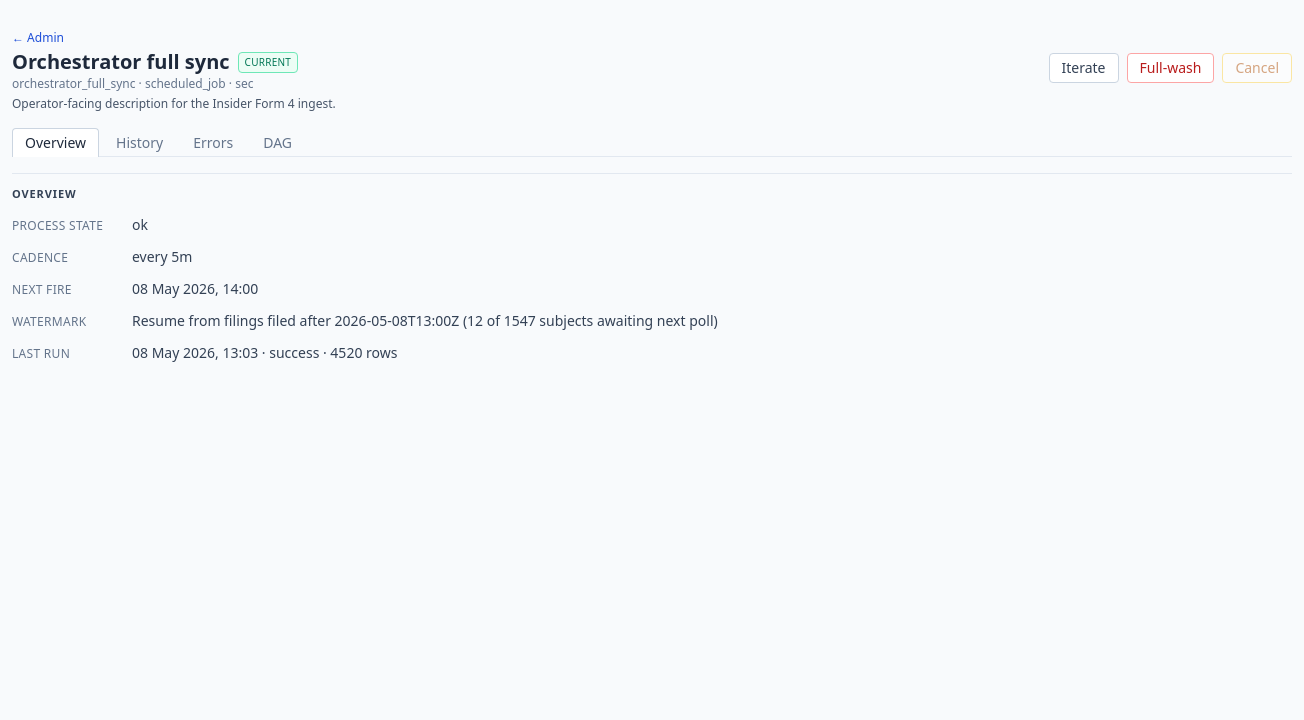
Test: ProcessDetailPage — DAG tab (orchestrator_full_sync) › fetches /dag and renders layer rows when DAG tab is opened
This screenshot has width=1304, height=720.
Click the tab "DAG": coordinates (278, 142) top-left (250, 128), bottom-right (305, 157)
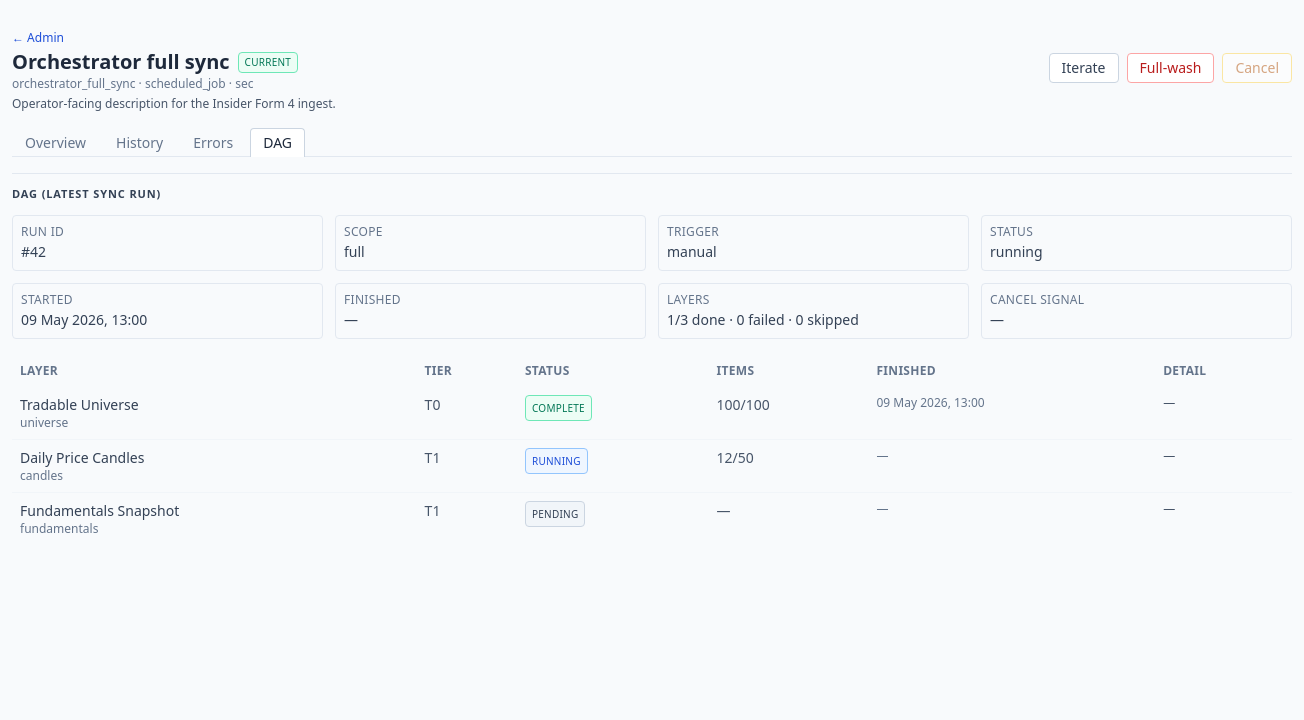
Now the text "Tradable Universe" is shown, box top-left (20, 394), bottom-right (139, 414)
Now the text "Daily Price Candles" is shown, box top-left (20, 448), bottom-right (144, 466)
Now the text "Fundamentals Snapshot" is shown, box top-left (20, 500), bottom-right (179, 520)
